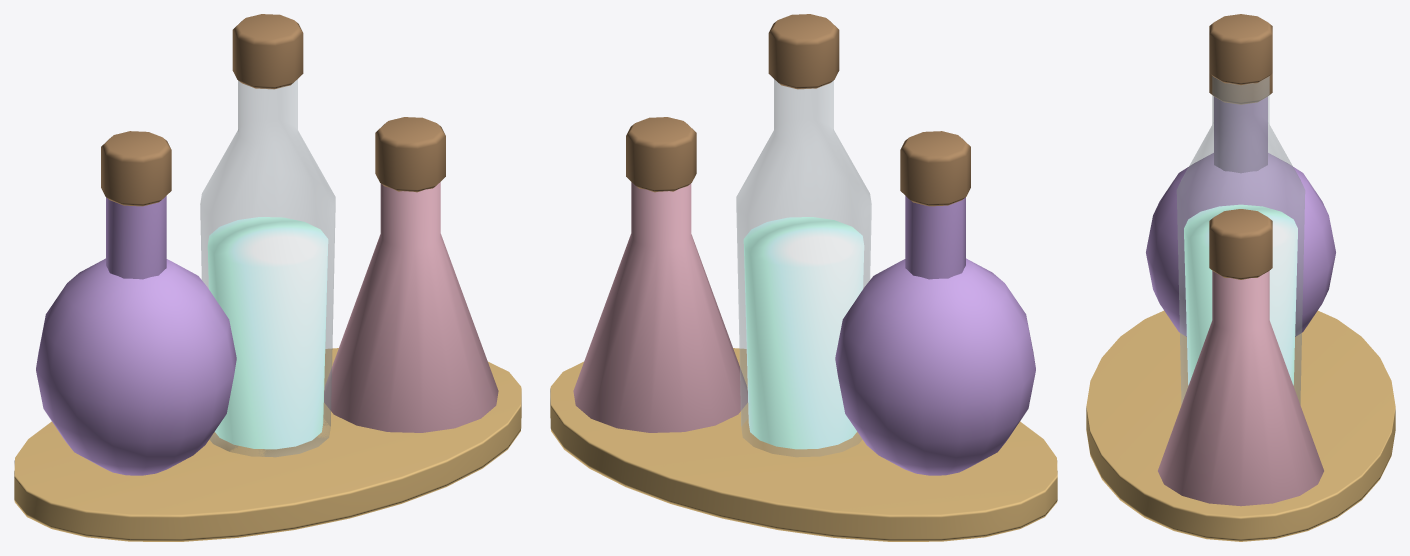
The model's file is Potion_Trio.fbx.
The picture shows the model from 3 angles, left to right: view 1: azimuth 30°, elevation 25°; view 2: azimuth 150°, elevation 25°; view 3: azimuth 270°, elevation 25°; orthographic projection. The views are drawn at different scales.
Parts seen in each view (by area): view 1: Potion_Trio_Mesh; view 2: Potion_Trio_Mesh; view 3: Potion_Trio_Mesh.
Boxes of the visible parts, <box> form: Potion_Trio_Mesh: <box>14,14,521,541</box>; Potion_Trio_Mesh: <box>550,14,1057,541</box>; Potion_Trio_Mesh: <box>1086,14,1395,541</box>.
Size of the model in its own units: 0.22 by 0.188 by 0.13.
